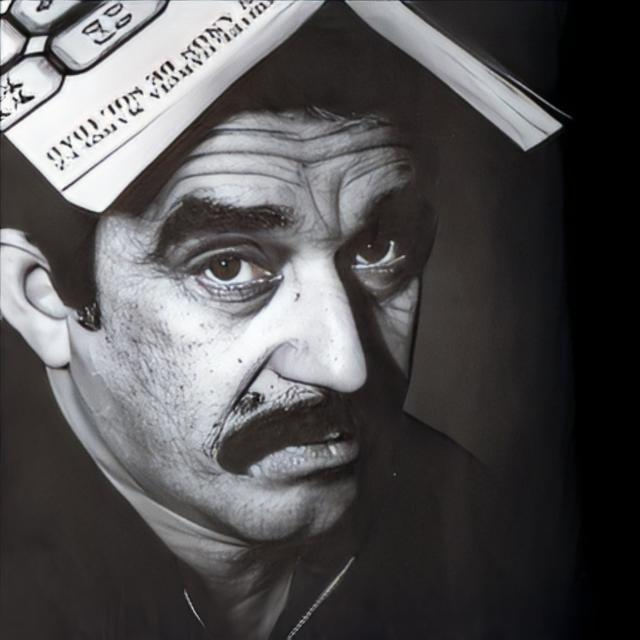surprise: (76, 104, 425, 546)
